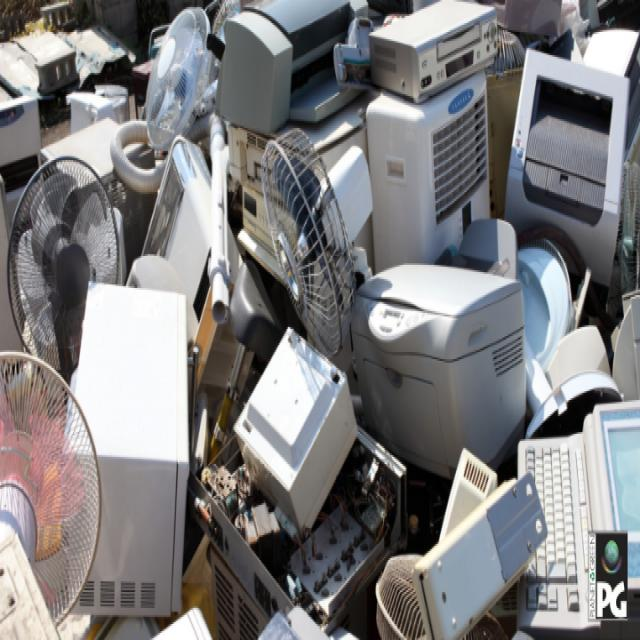hazard: (135, 132, 311, 440), (73, 290, 191, 603), (355, 266, 525, 469), (375, 445, 551, 640), (509, 409, 638, 619), (234, 328, 355, 539), (511, 55, 623, 278), (291, 426, 409, 620), (219, 0, 375, 134), (372, 84, 490, 261), (368, 13, 499, 96)
